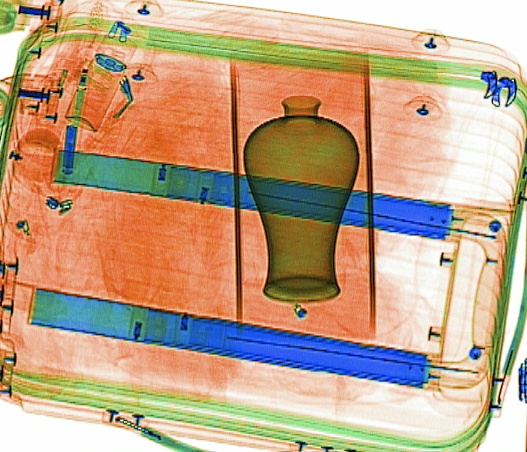pressure: (60, 29, 138, 132)
